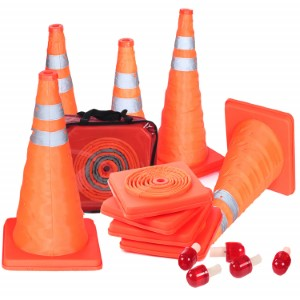traffic cone: (2, 71, 102, 271), (192, 98, 295, 248), (143, 8, 227, 180), (33, 24, 97, 218), (105, 37, 158, 179)
